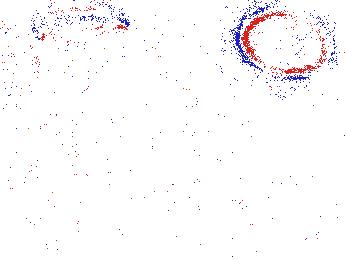moon jellyfish: (237, 1, 336, 76), (151, 1, 224, 95), (33, 1, 128, 43), (1, 23, 41, 97)
